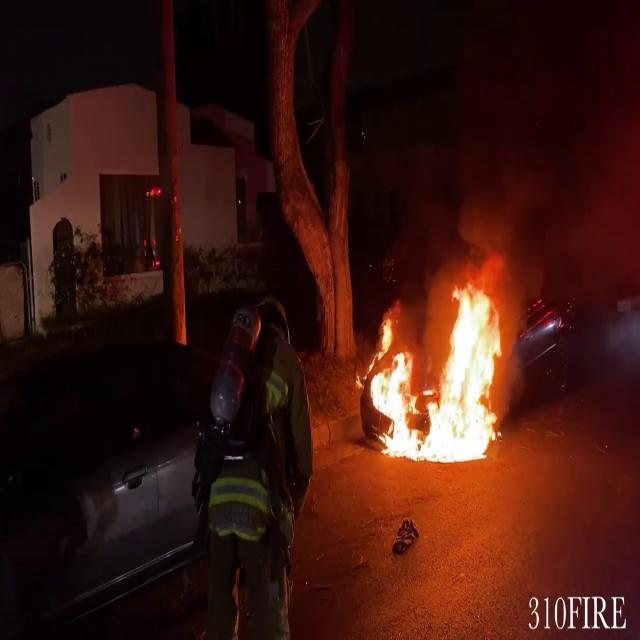Fire: (362, 274, 512, 466)
Smoke: (447, 2, 640, 304)
